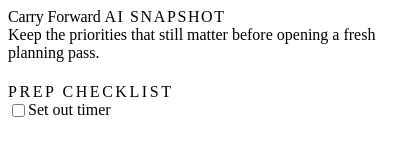
it: PlanRecap — audit #24/#25/#26 › marks a prep item complete on checkbox click and persists via localStorage (audit #24)
Later steps or results of the test are not shown.
Click the checkbox labelled "Set out timer".
click(18, 111)  # box [12, 104, 25, 117]
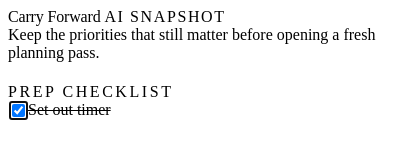
Expected: the checkbox labelled "Set out timer" is checked, [12, 104, 25, 117]
